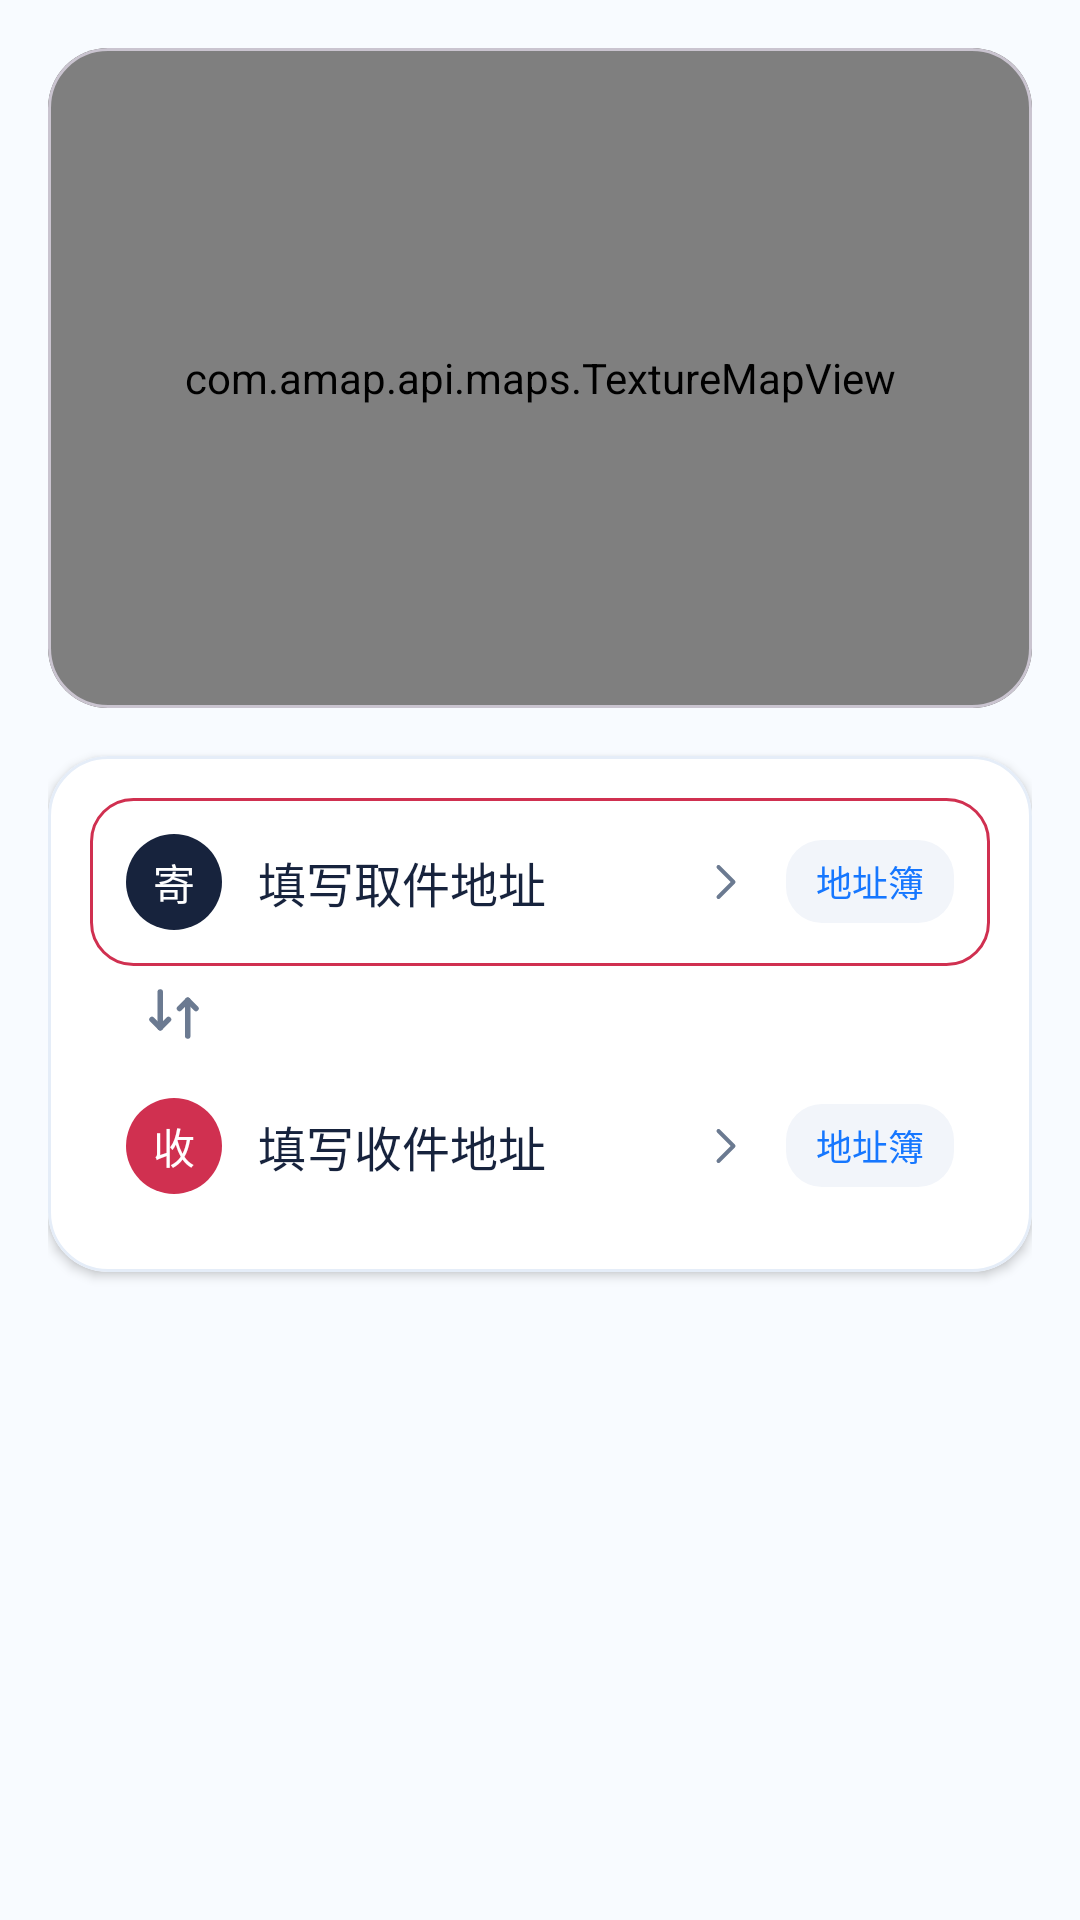

Icons on this 1080 × 1920 Android screen, each with the point to tap as (x,y):
交换寄收件: (174,1014)
